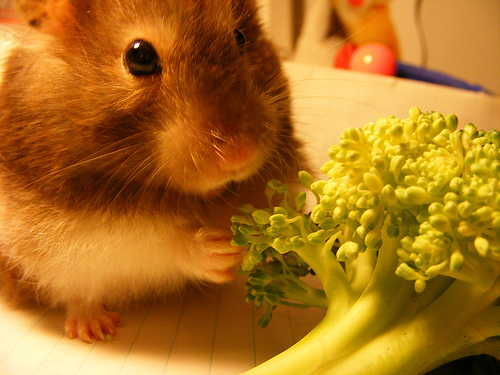broccoli: (231, 105, 499, 374)
